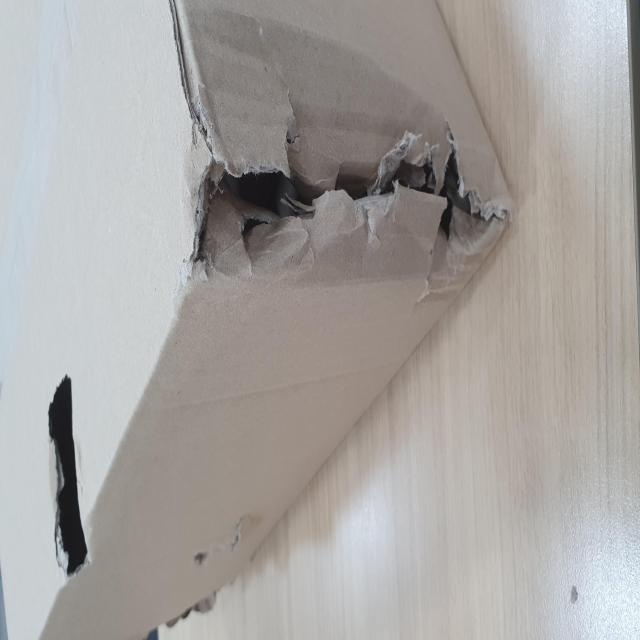damaged: (201, 323, 294, 640), (32, 78, 154, 168)
